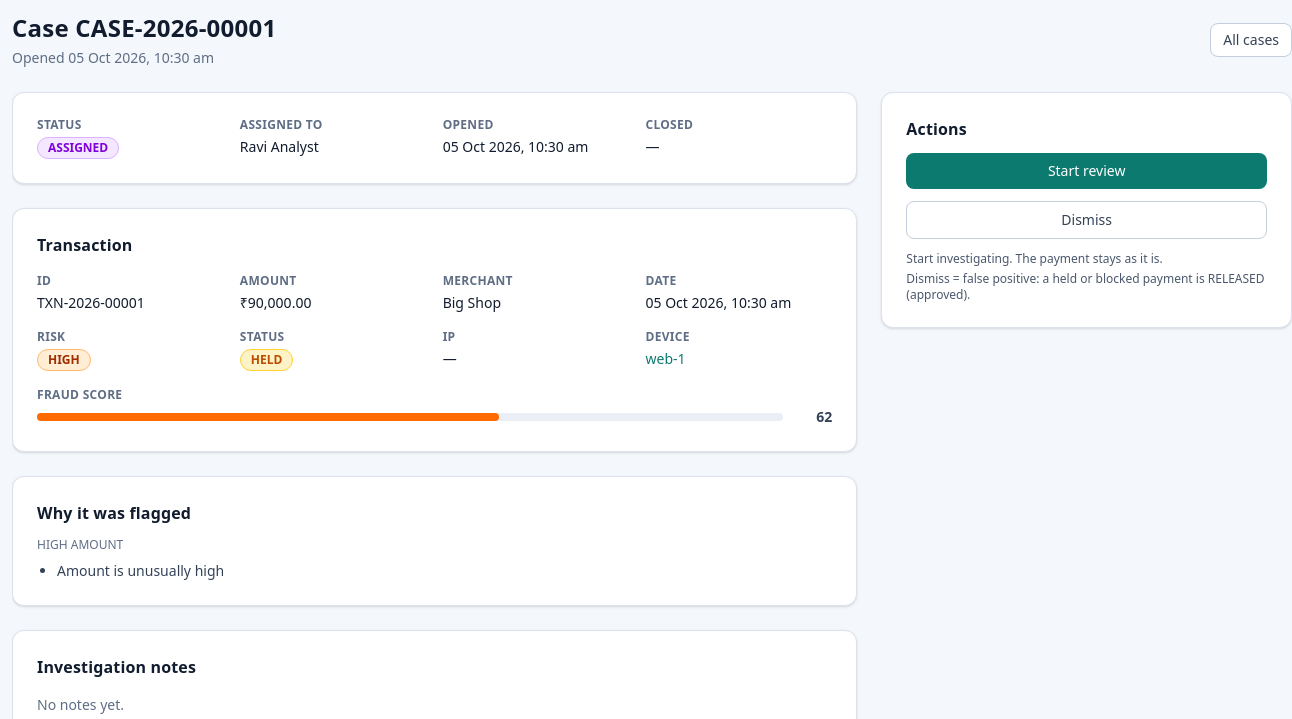
Test: CaseDetail workflow › an action failure appears as a page alert
Click the button "Start review". click: (1087, 171)
box: [906,153,1267,189]
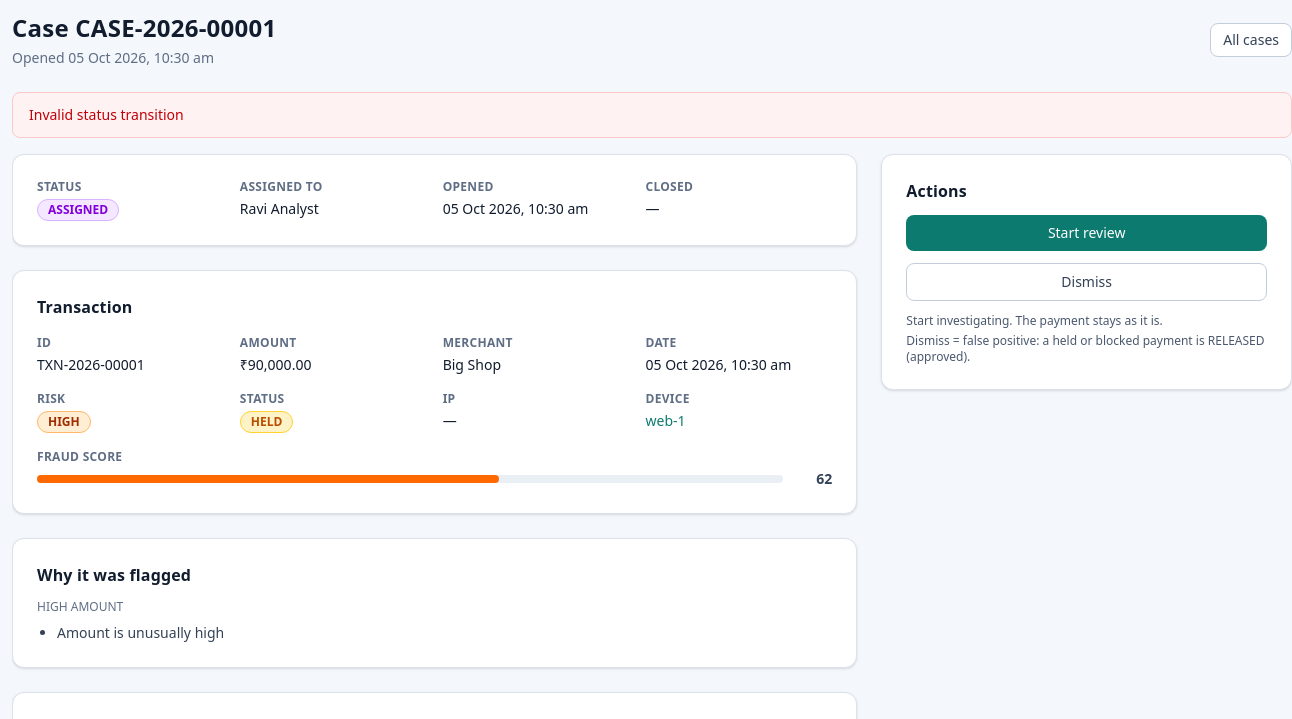
expect the message reads "Invalid status transition": met, box [29,105,184,124]
